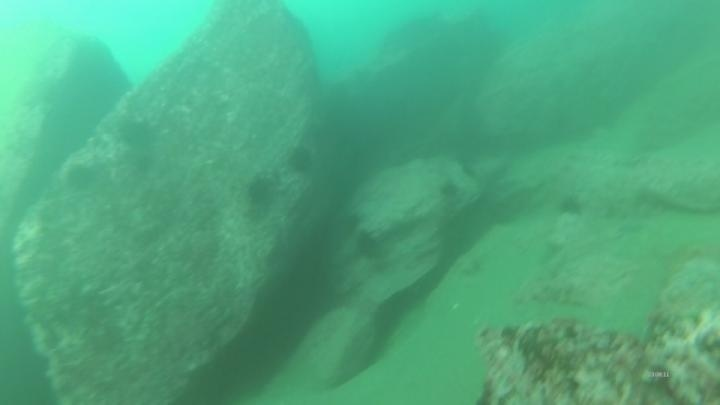echinus: (115, 116, 159, 153), (243, 172, 279, 211), (352, 227, 385, 263), (64, 161, 99, 194), (285, 143, 316, 176), (555, 192, 587, 221), (436, 178, 463, 203)
holothurian: (515, 275, 591, 309)
